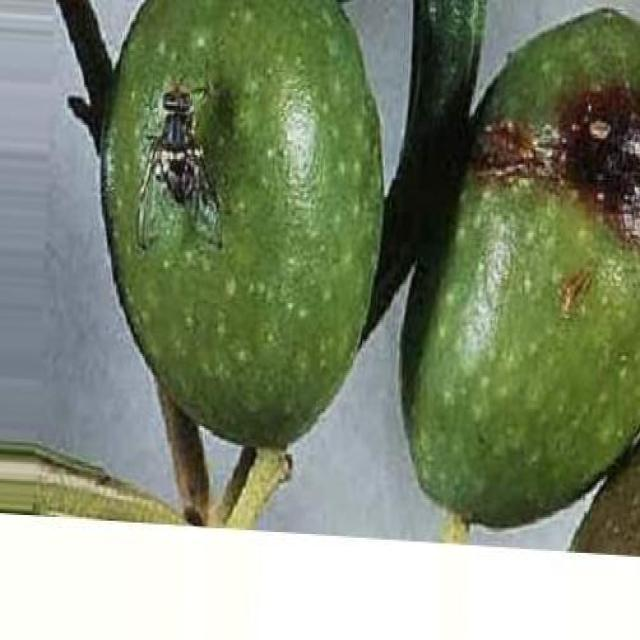Anthracnose: (106, 0, 381, 445), (414, 9, 638, 526)
